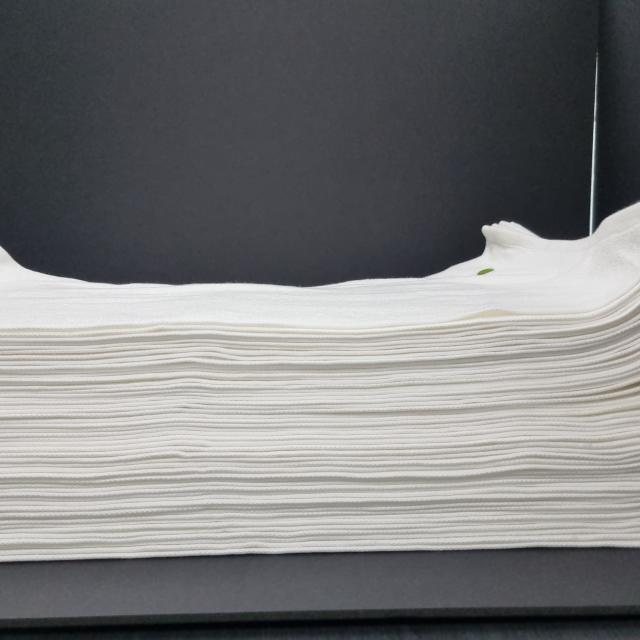50_towel_counts: (0, 149, 640, 595)
